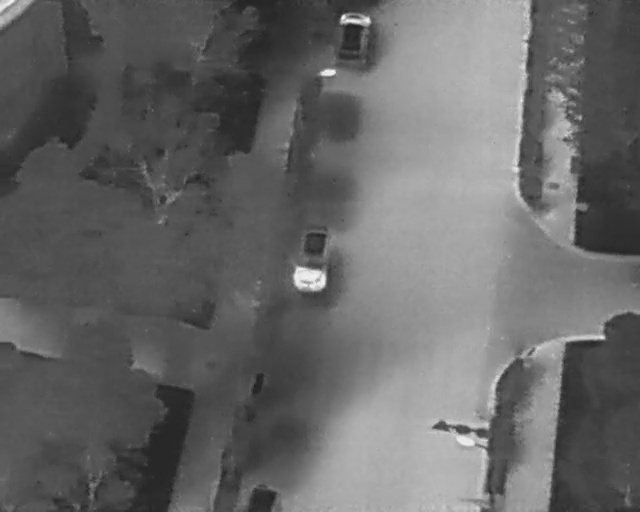Car: (290, 226, 332, 294), (331, 10, 374, 68), (244, 482, 284, 510)
